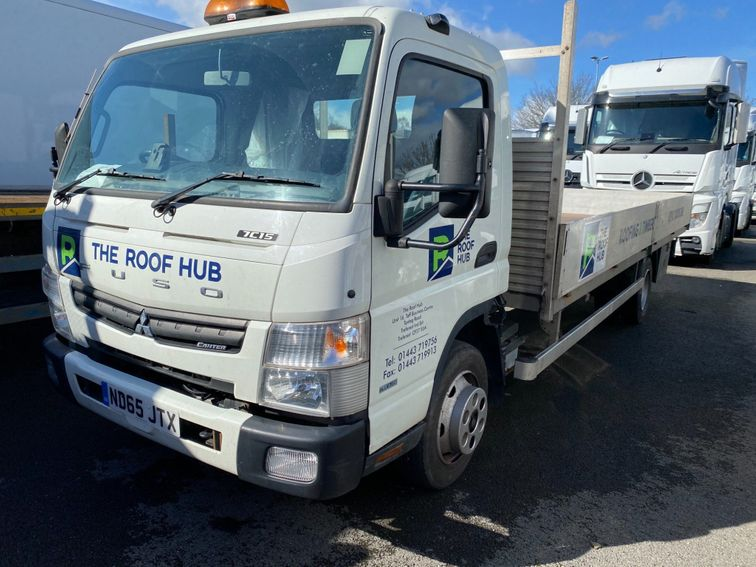Semi: (42, 0, 693, 501), (581, 55, 749, 261)
